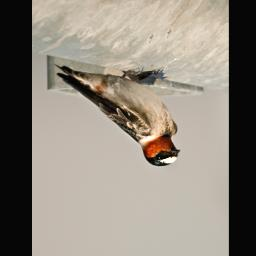Swallow: (53, 63, 182, 169)
